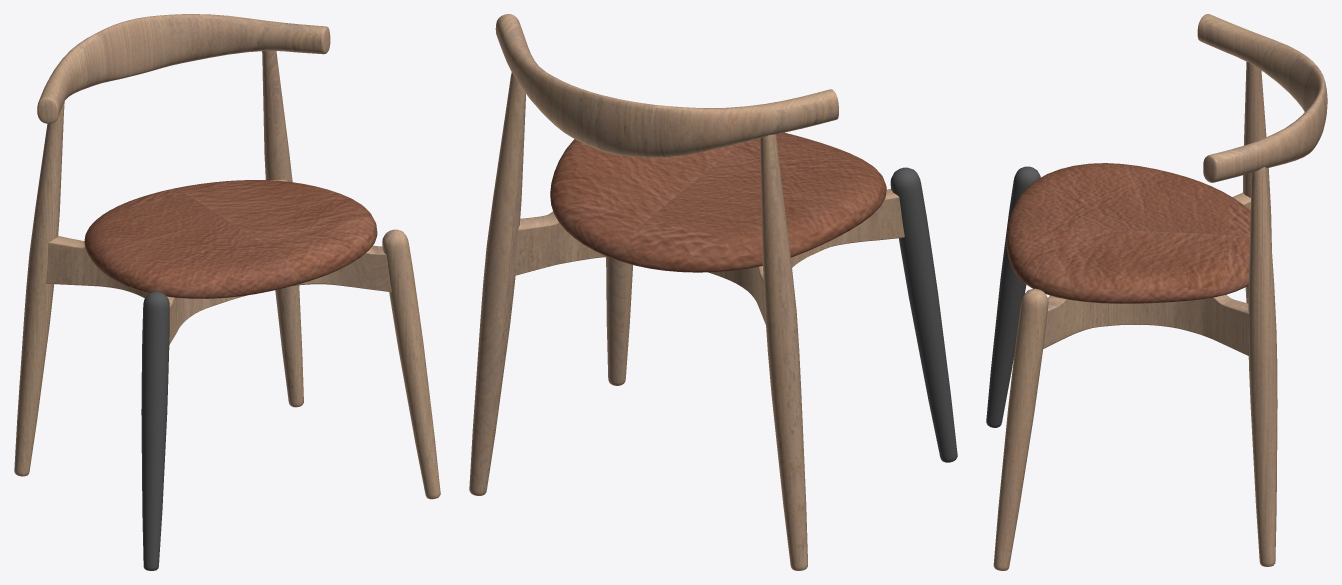
The model's file is yizi3.obj.
3 renders of one model, left to right at view 1: azimuth 30°, elevation 25°; view 2: azimuth 150°, elevation 25°; view 3: azimuth 270°, elevation 25°, orthographic. The views are drawn at different scales.
Parts seen in each view (by area): view 1: ch20_15, ch20_12, ch20_13; view 2: ch20_15, ch20_12, ch20_13; view 3: ch20_15, ch20_12, ch20_13.
Part boxes in pixels (x1,y1,x2,y2): ch20_15: (14,14,440,499); ch20_12: (84,180,377,298); ch20_13: (141,291,169,570); ch20_15: (469,14,904,570); ch20_12: (550,132,886,272); ch20_13: (890,167,957,462); ch20_15: (993,14,1327,570); ch20_12: (1006,163,1250,303); ch20_13: (986,166,1040,427).
Size of the model in its own units: 54.62 by 69.25 by 51.95.
